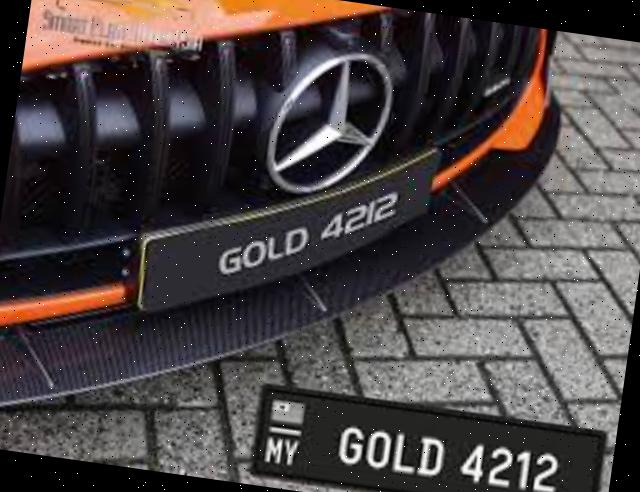License_Plate: (113, 104, 457, 375), (248, 385, 610, 492)
